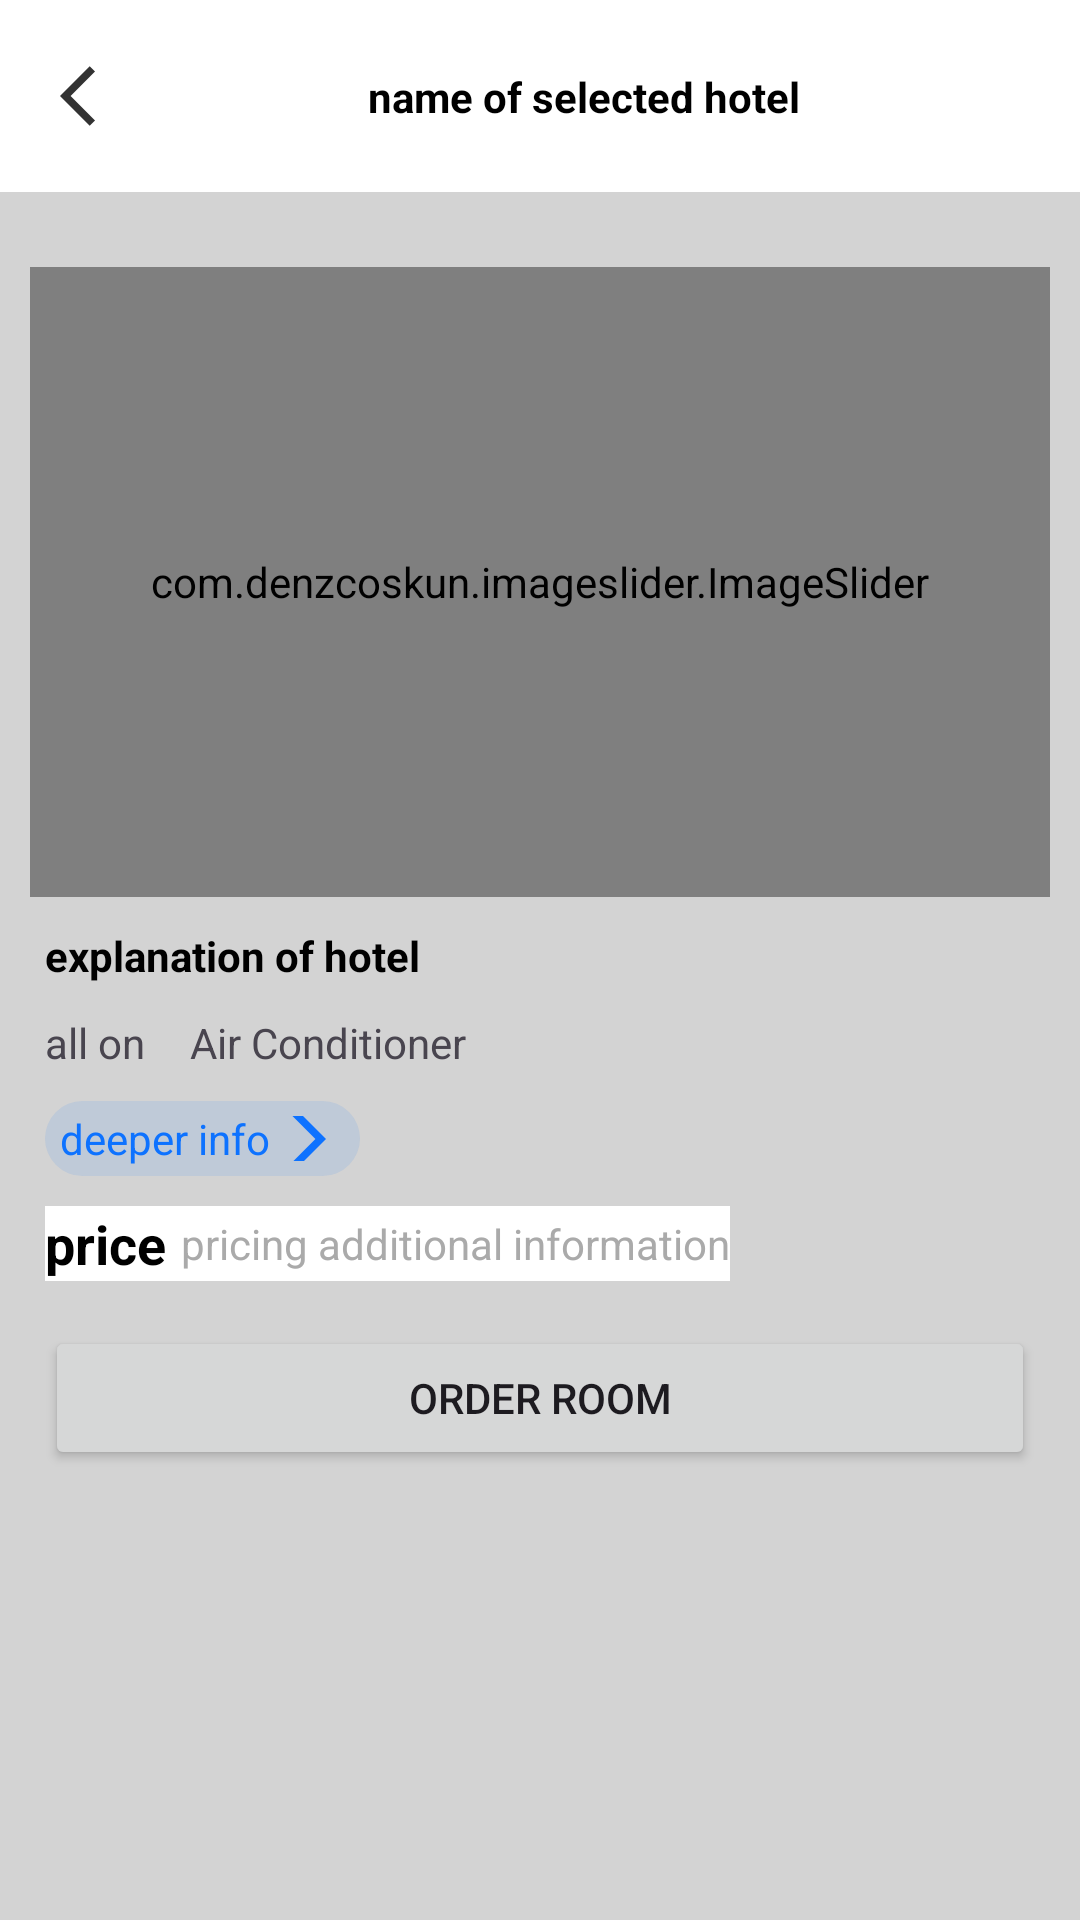

Where to tap for icons on this 1080px×1920px app screen, as (x,y):
arrow forward: (309,1138)
back: (77,96)
